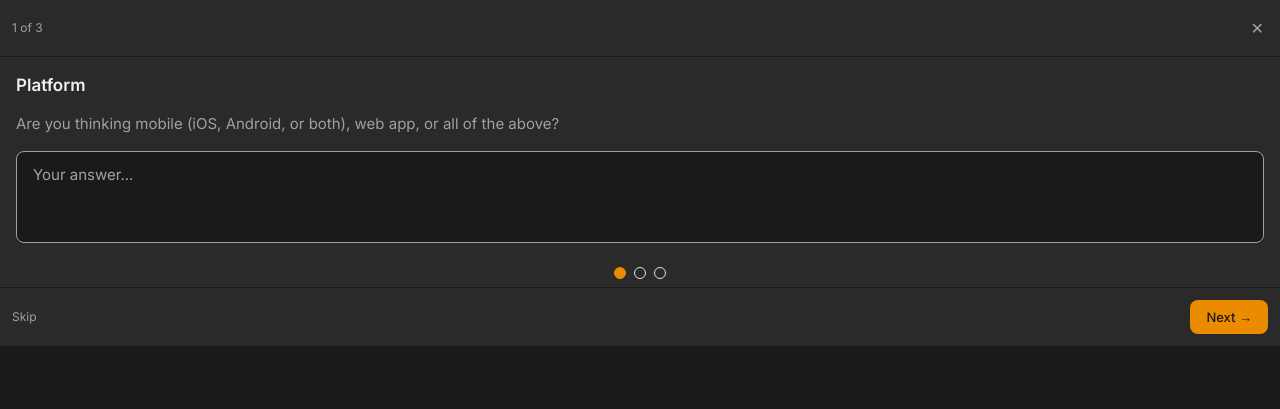
QuestionCardStack › navigates back on Back click
The image size is (1280, 409).
Click the button with aria-label "next question" at (1229, 317), box top-left (1190, 300), bottom-right (1268, 334)
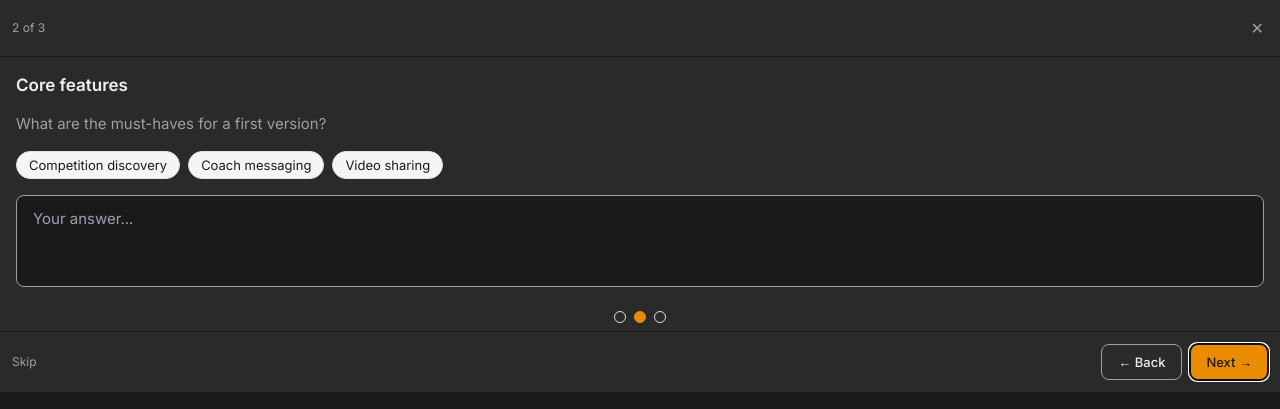
Now the heading "Core features" is shown, box top-left (16, 75), bottom-right (128, 95)
Click the button with aria-label "previous question" at (1142, 362), box top-left (1101, 344), bottom-right (1182, 380)
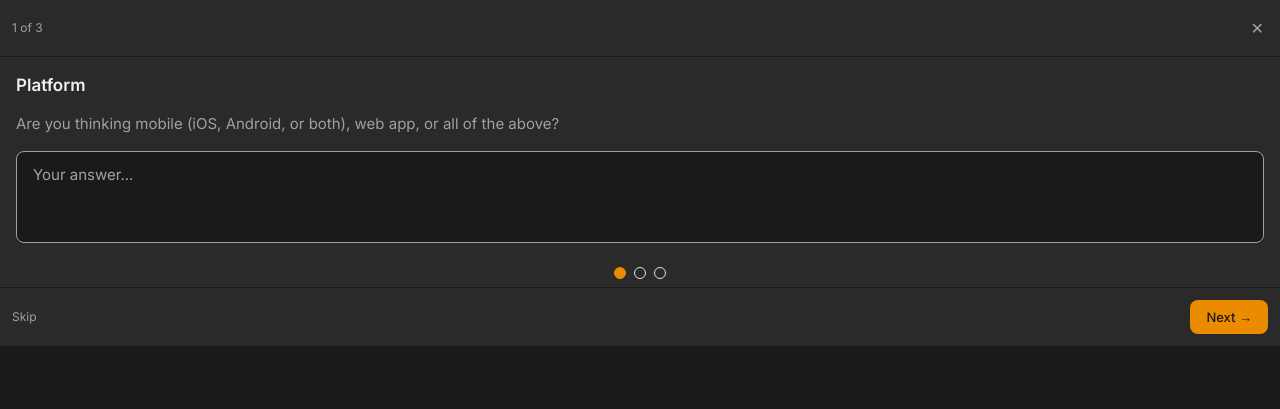
Now the heading "Platform" is shown, box top-left (16, 75), bottom-right (86, 95)
